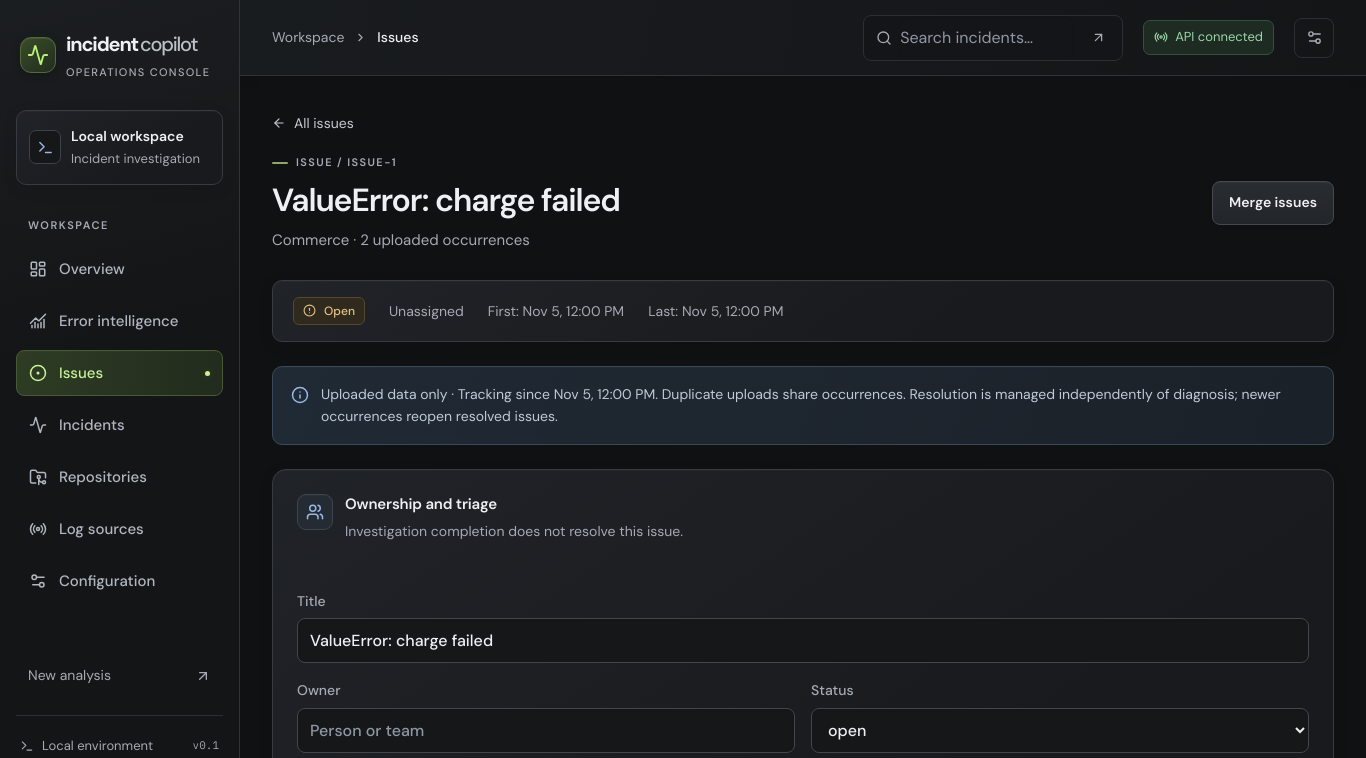
Scenario: issue triage and evidence › saves ownership, resolution and notes, then refreshes activity
Expected: the field named "Issue title" is shown, [297, 618, 1309, 664]
Type "Payments" into the field named "Issue owner" at (546, 730), box [297, 708, 795, 753]
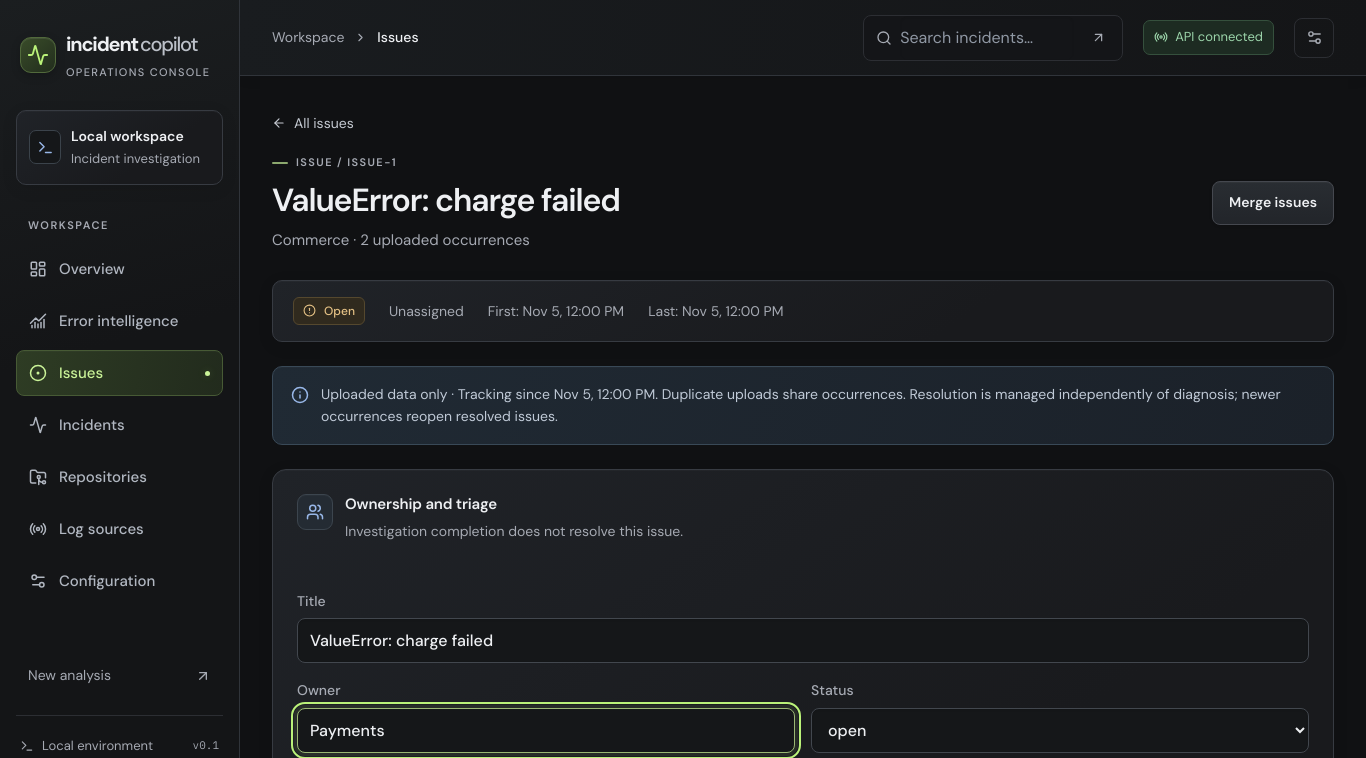
Select "resolved" in the dropdown named "Issue status" at (1060, 730), box [811, 708, 1309, 753]
(page scrolled)
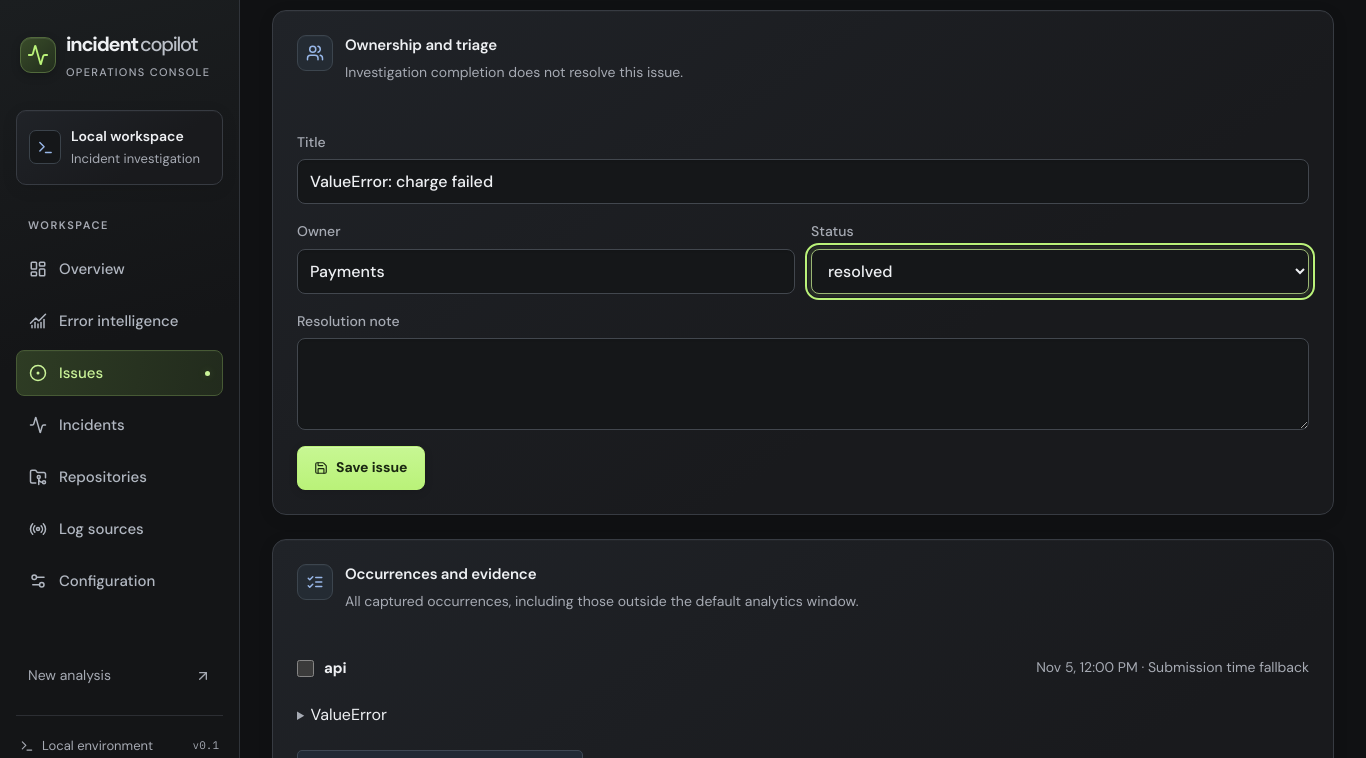
Type "Fixed retries" into the text box labelled "Resolution note" at (803, 384), box [297, 338, 1309, 430]
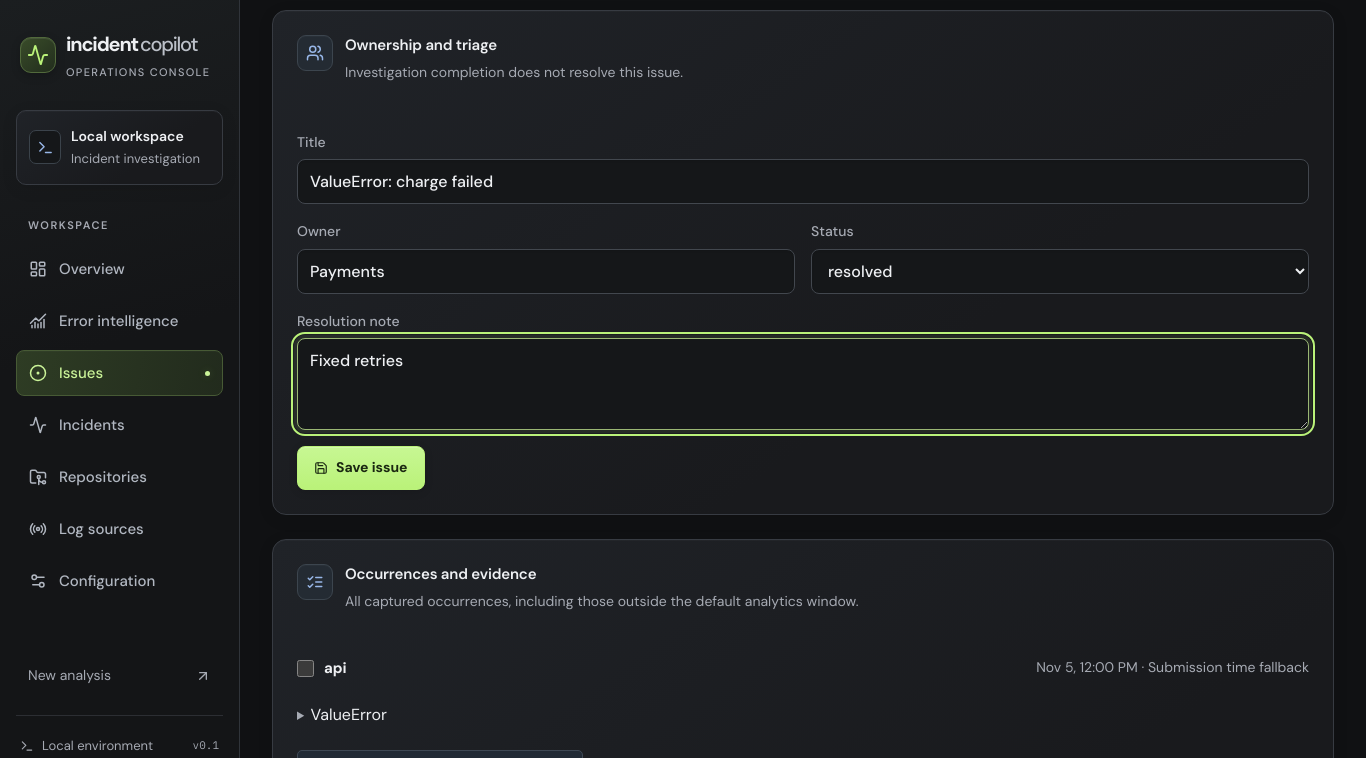
Click the button "Save issue" at (361, 468), box [297, 446, 424, 490]
(page scrolled)
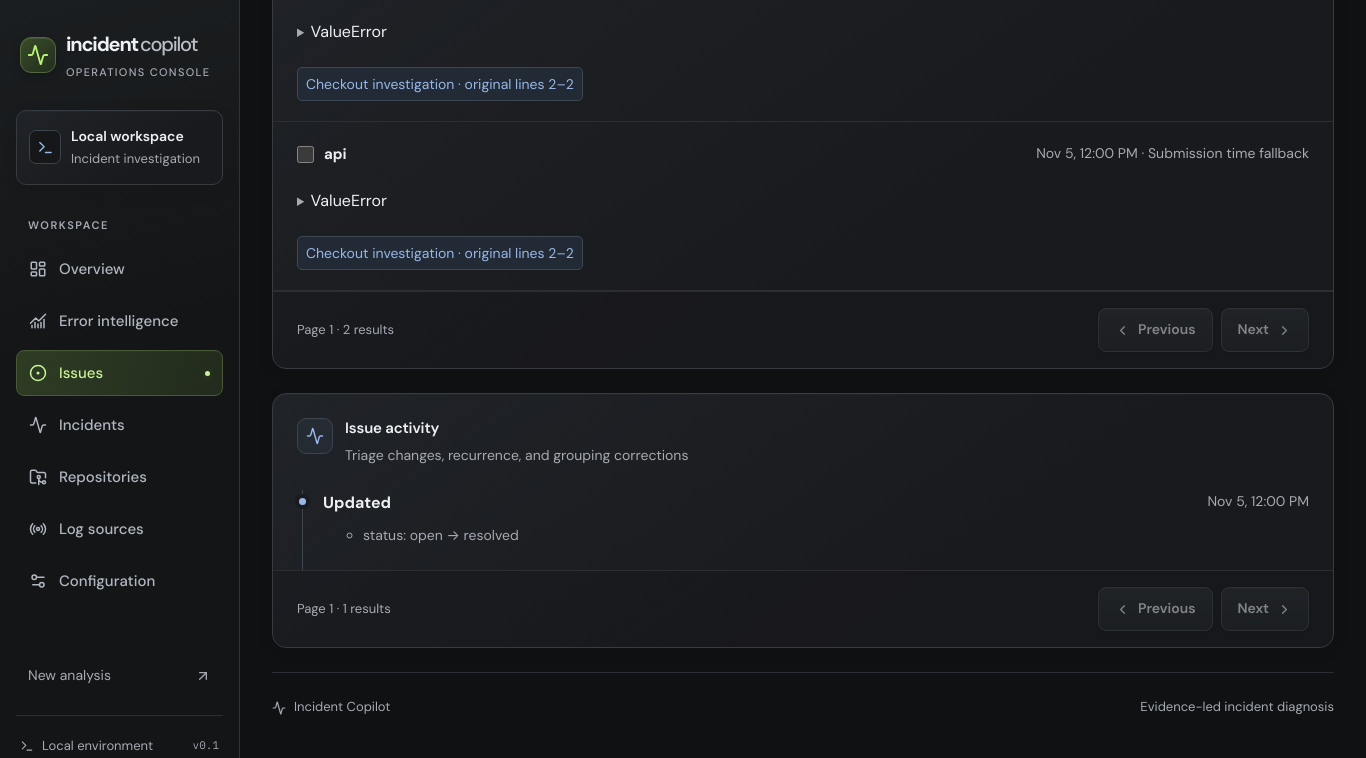
Result: the list item "status: open → resolved" is shown at [363, 526, 519, 544]
